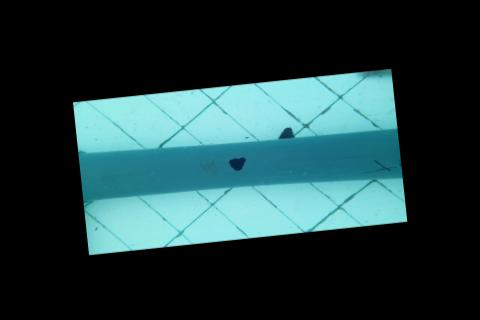kebocoran: (226, 155, 248, 173)
keretakan: (363, 154, 401, 174)
